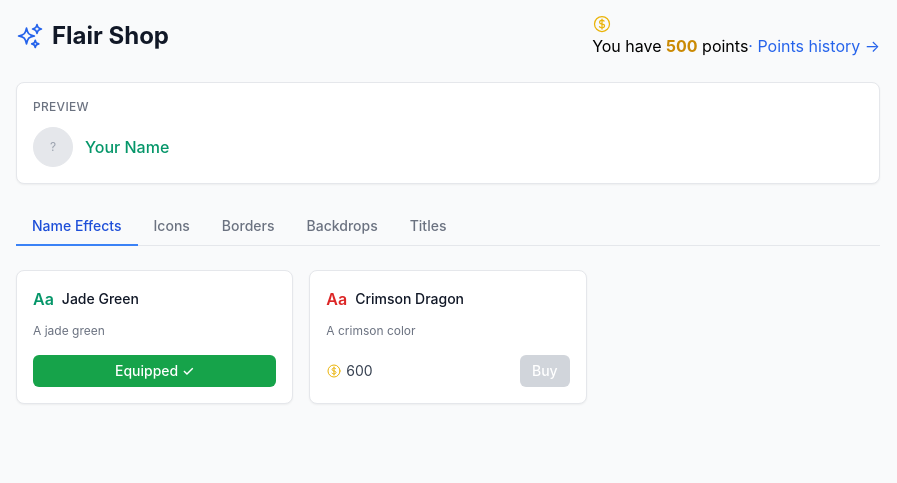
Test: Shop page › clicking Equipped unequips the item
This screenshot has width=897, height=483.
Click the button "Equipped ✓". click: (155, 371)
box: [33,355,276,387]
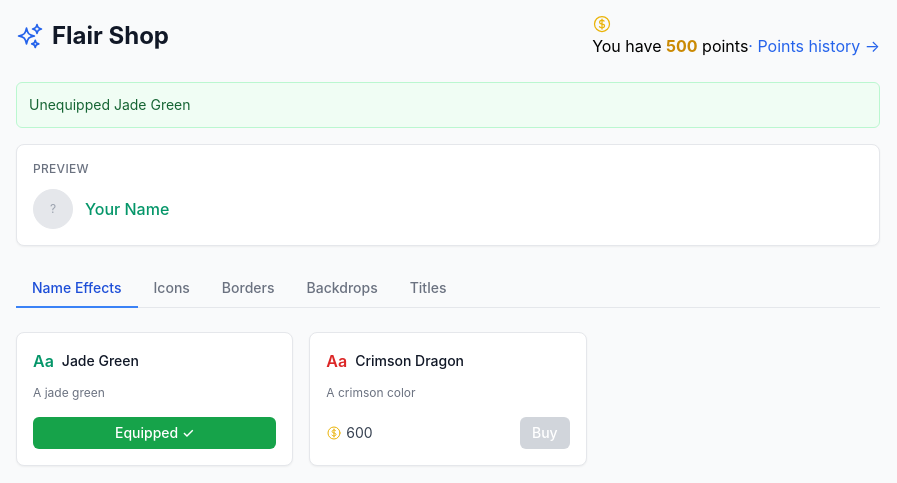
Expected: the text "Unequipped Jade Green" is shown, [16,82,880,128]
